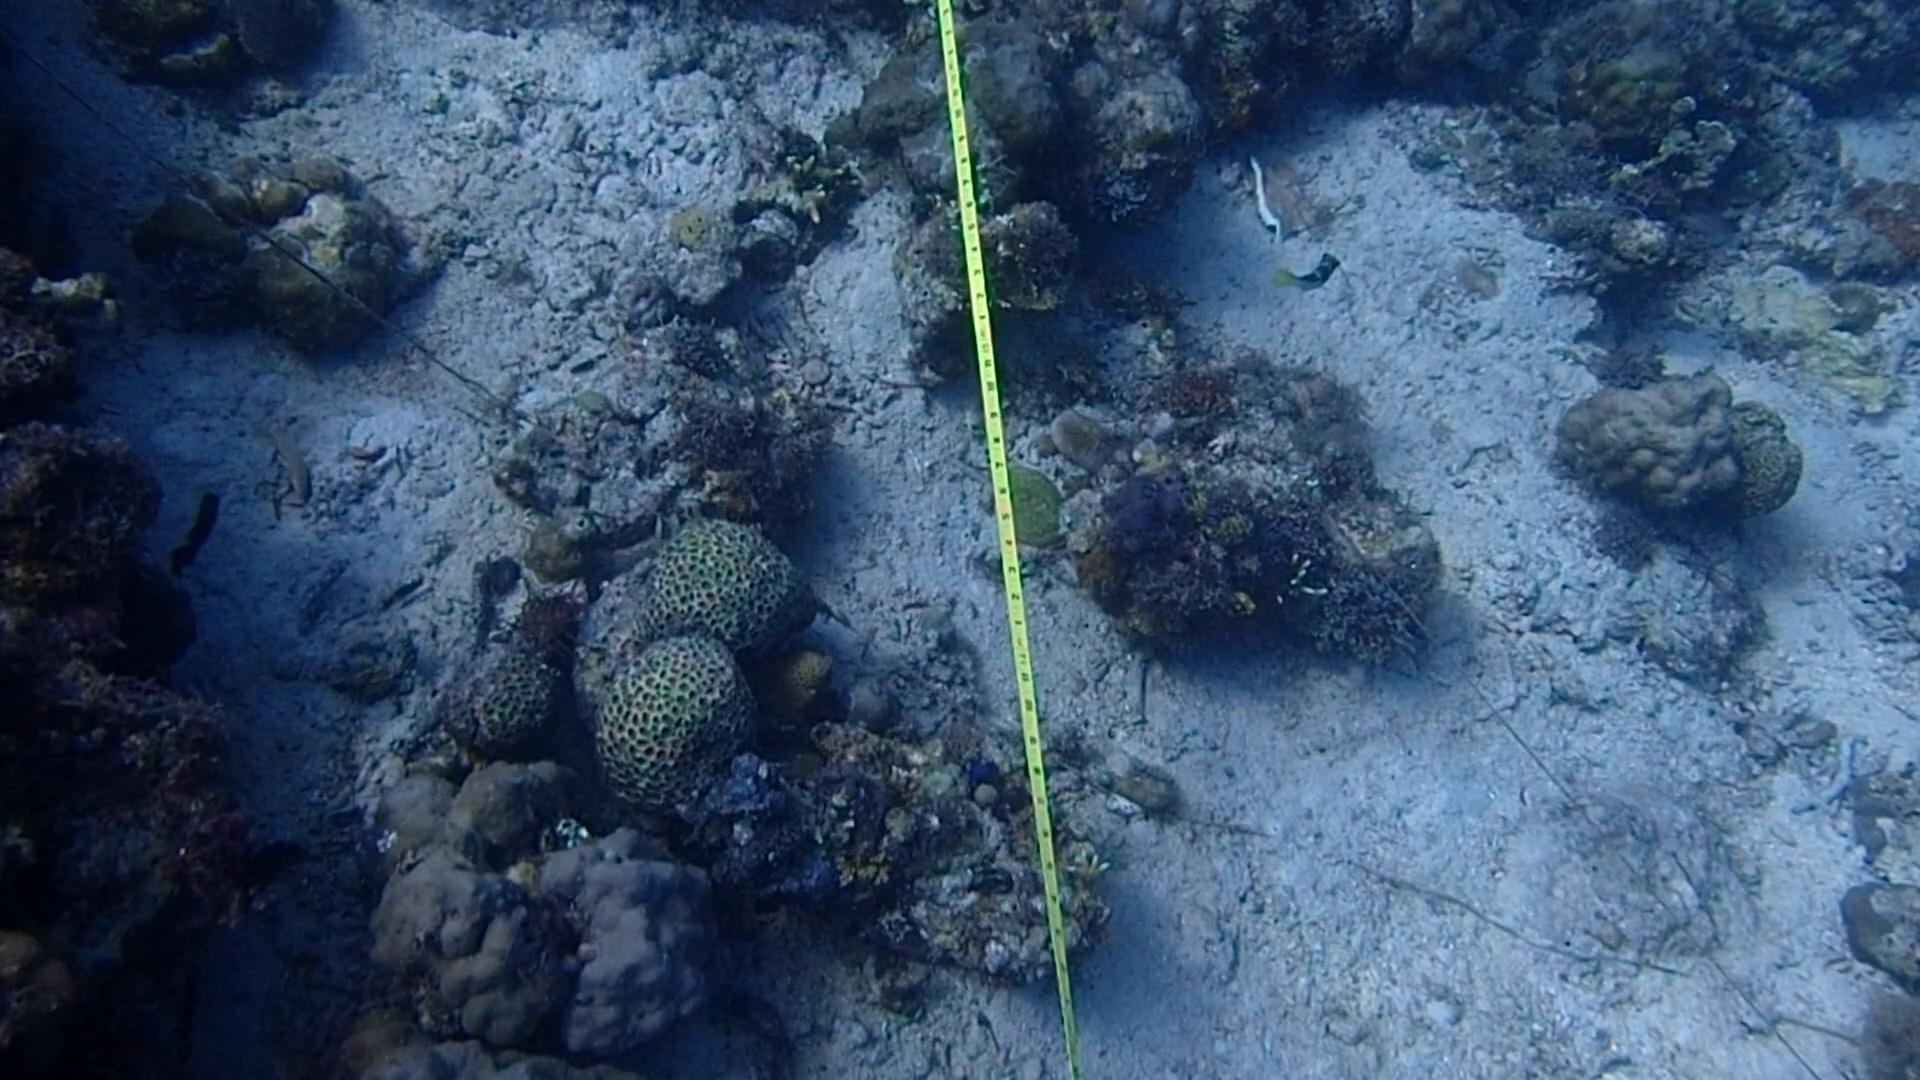Striped Fish: (1275, 245, 1345, 303)
